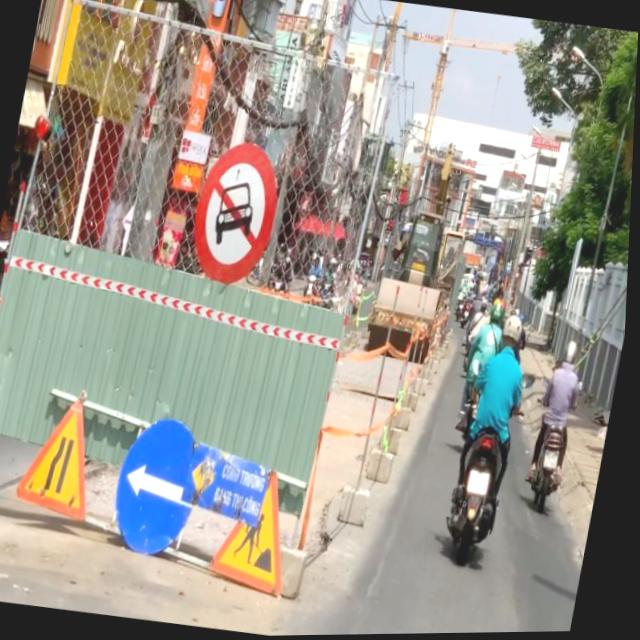Cac xe chi duoc re trai: (109, 412, 215, 564)
Cam xe oto: (184, 137, 290, 291)
